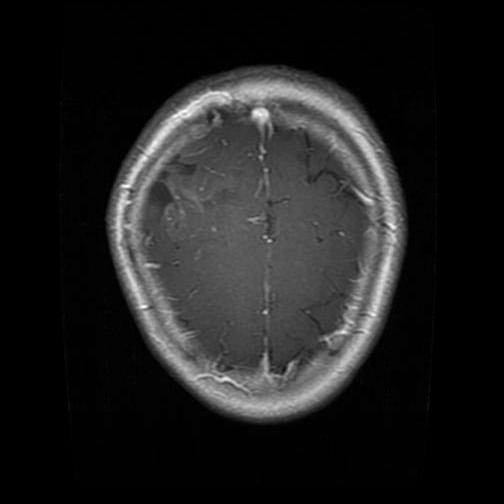Tumour-Glioma: (134, 169, 195, 228)
